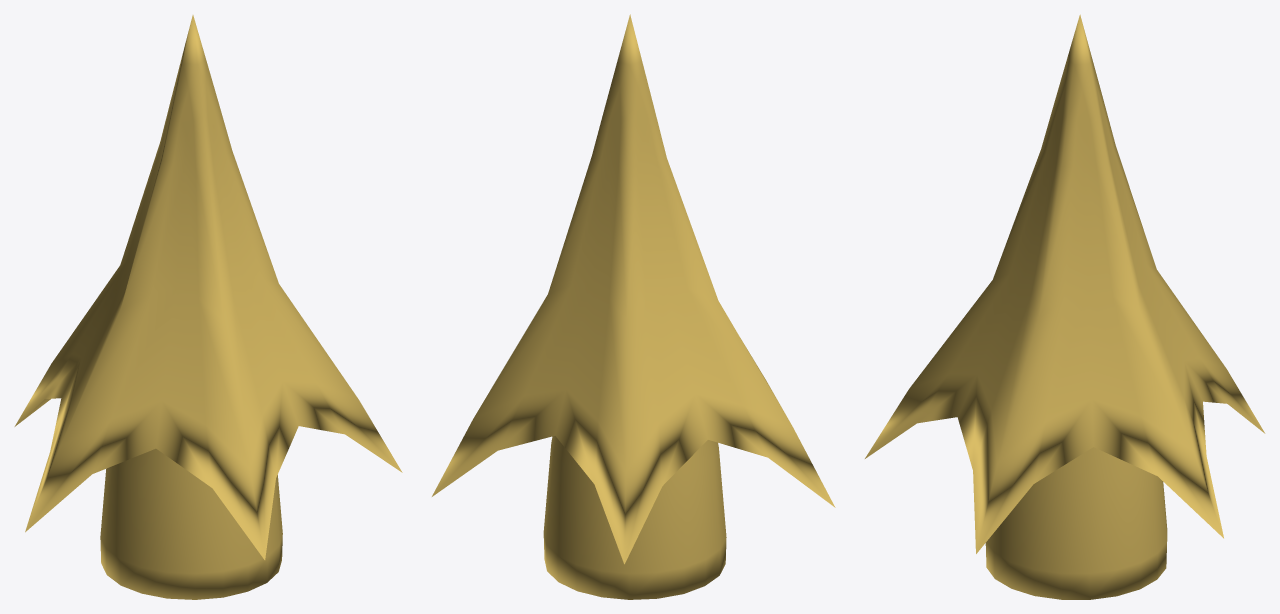
File: Proyectil.fbx
3 views of the same model, side by side, from view 1: azimuth 30°, elevation 25°; view 2: azimuth 150°, elevation 25°; view 3: azimuth 270°, elevation 25° (orthographic).
Visible parts, largest first — view 1: Proyectil; view 2: Proyectil; view 3: Proyectil.
Part boxes in pixels (x1,y1,x2,y2): Proyectil: (14, 15, 402, 599); Proyectil: (432, 14, 835, 599); Proyectil: (865, 14, 1265, 599).
Bounding box in the file's own units: 3.56 × 5.39 × 3.57.
